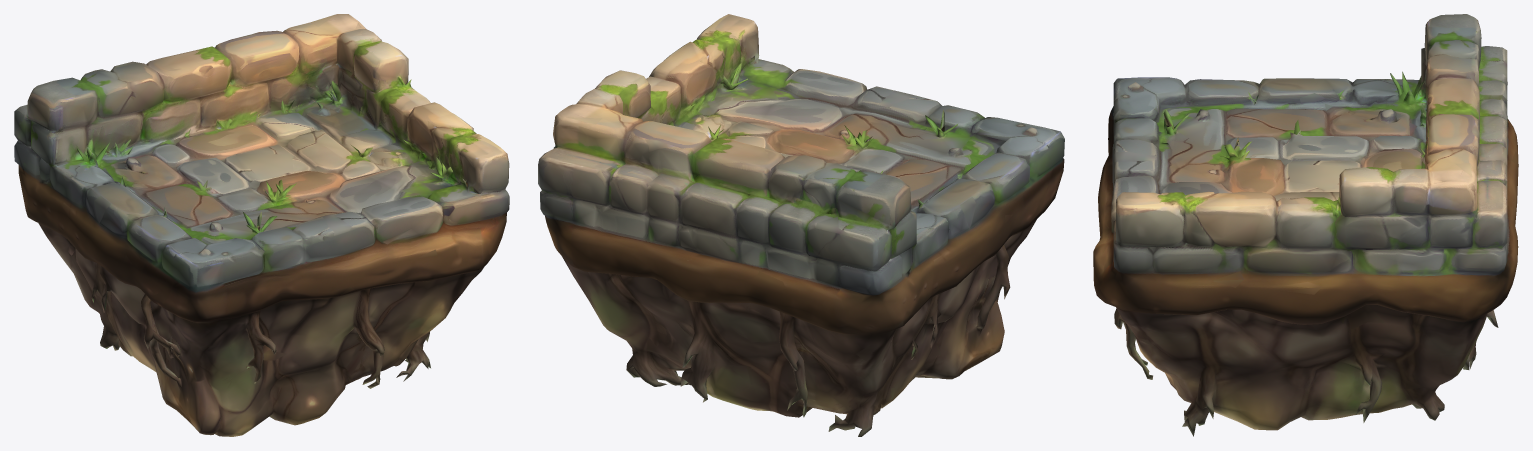
Rendered from AncientCornerWall_Til.glb.
The picture shows the model from 3 angles, left to right: view 1: azimuth 30°, elevation 25°; view 2: azimuth 150°, elevation 25°; view 3: azimuth 270°, elevation 25°; orthographic projection. The views are drawn at different scales.
Parts seen in each view (by area): view 1: Mesh_0; view 2: Mesh_0; view 3: Mesh_0.
Part boxes in pixels (bbox=[...]): Mesh_0: bbox=[14, 14, 509, 436]; Mesh_0: bbox=[538, 14, 1064, 436]; Mesh_0: bbox=[1093, 14, 1518, 436].
Size of the model in its own units: 4.95 by 4 by 4.96.
Materials: 1 (1 with a texture image).
